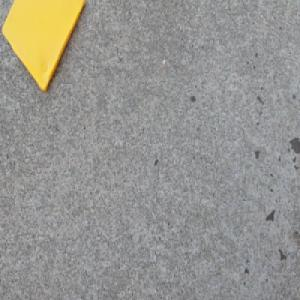PlasticPart: (0, 0, 85, 93)
